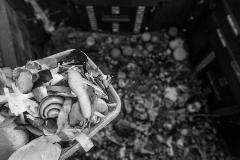organic: (35, 92, 73, 124), (20, 138, 64, 160), (11, 68, 37, 92), (111, 48, 123, 62), (170, 28, 182, 40), (144, 32, 156, 42), (125, 46, 134, 56)
